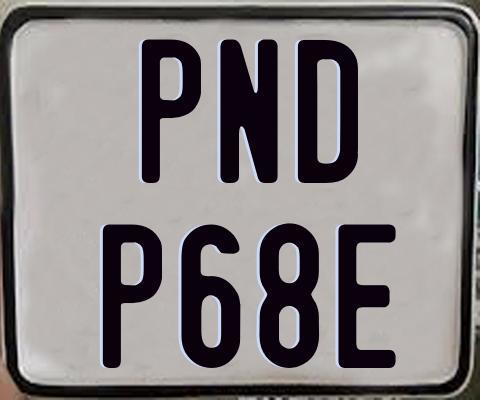6: (179, 223, 244, 367)
8: (258, 222, 319, 370)
D: (297, 39, 357, 184)
E: (336, 222, 400, 372)
N: (219, 38, 279, 188)
P: (103, 223, 167, 368), (140, 39, 200, 184)
